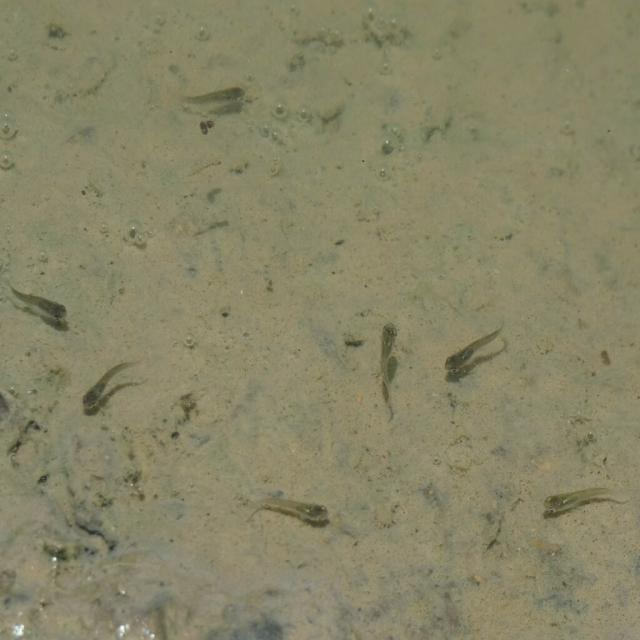Sivrisinek Baligi: (254, 481, 334, 533), (443, 318, 508, 382), (542, 479, 632, 523), (80, 354, 142, 414), (170, 75, 253, 119), (368, 320, 402, 412), (8, 282, 72, 326)
